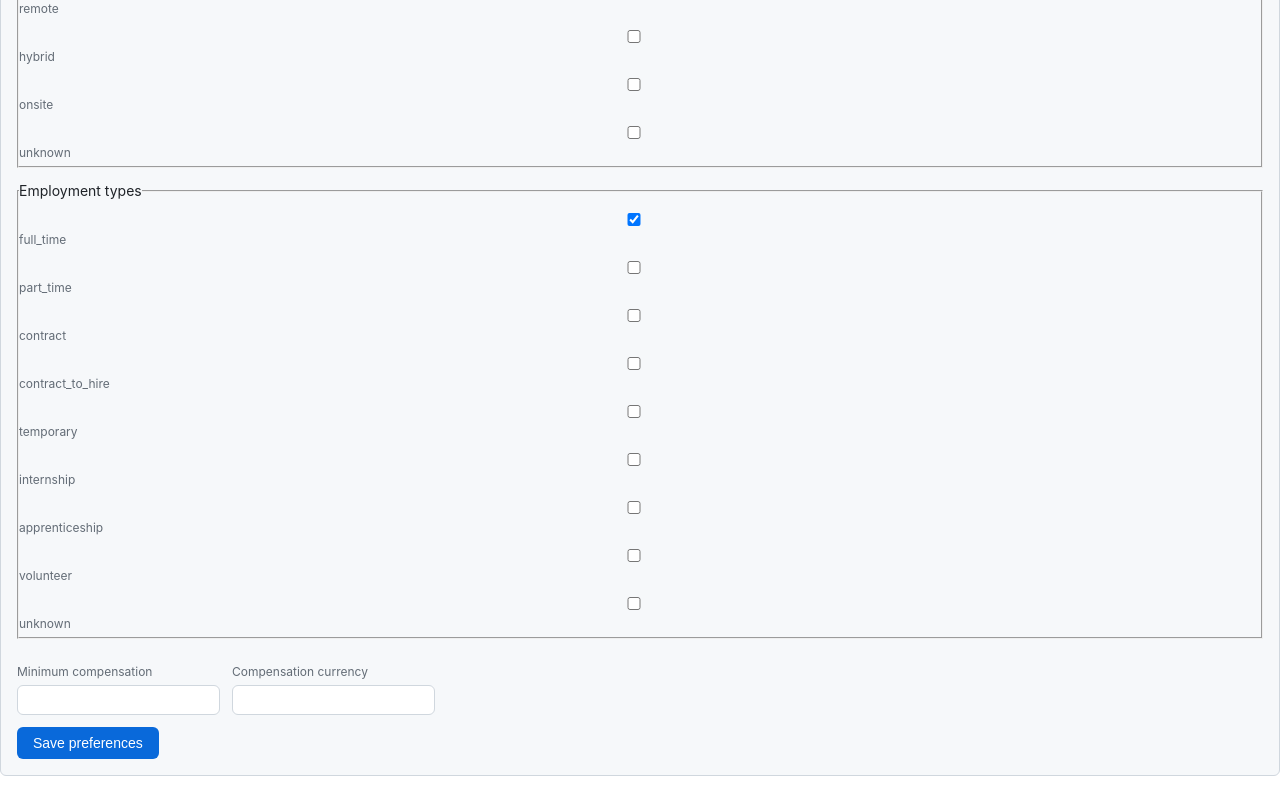
it: Profile preferences › reports a rejected save
(page scrolled)
Click the button "Save preferences".
click(88, 743)  # box [17,727,159,759]
(page scrolled)
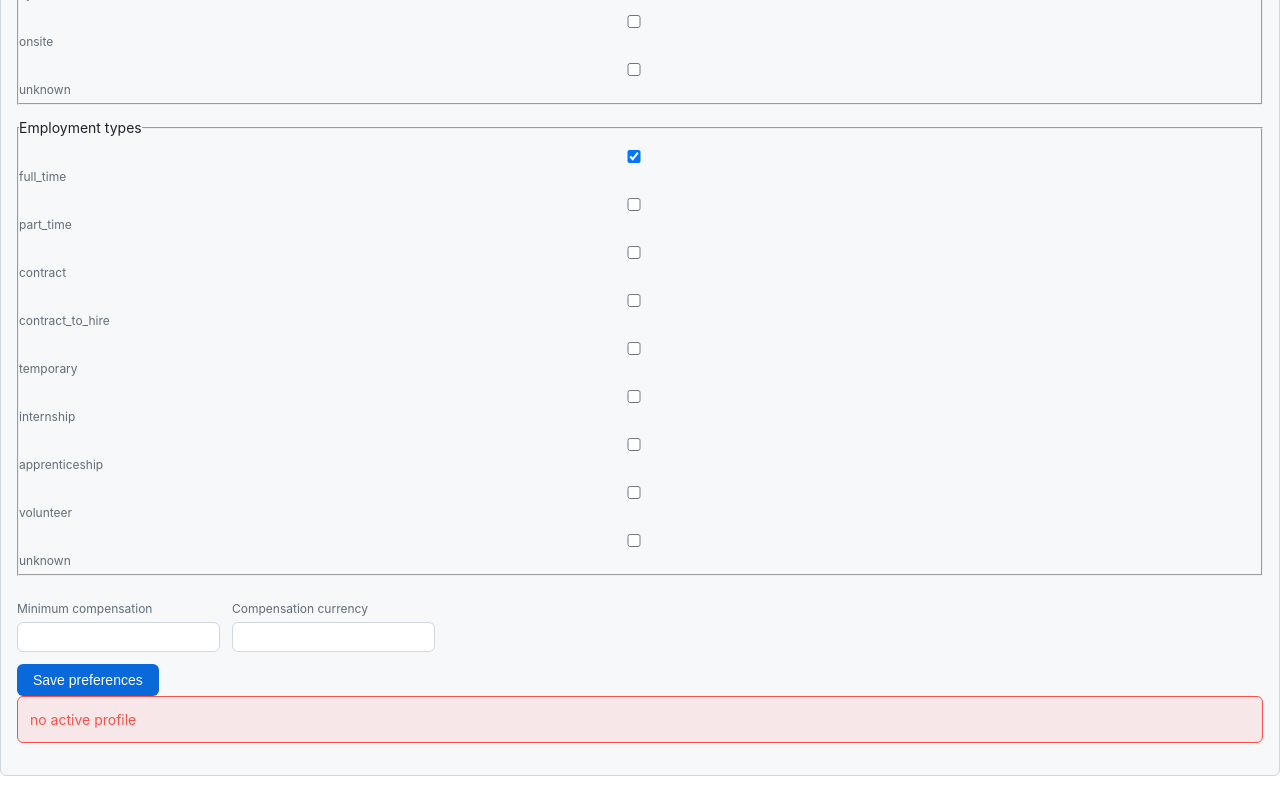
expect the text "no active profile" is shown: met, box [17,696,1263,743]
